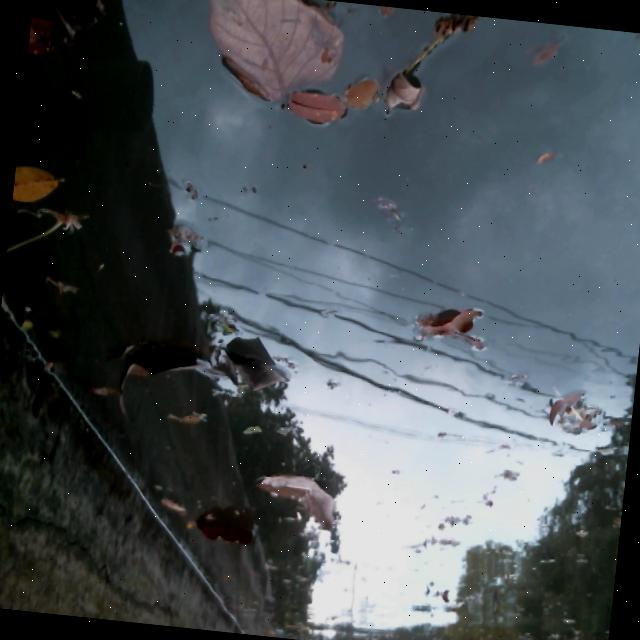Big-leaf: (106, 315, 295, 432), (194, 0, 334, 95), (243, 447, 355, 545), (184, 502, 261, 556)
Small-leaf: (401, 283, 503, 372), (540, 378, 601, 442), (11, 138, 63, 203), (285, 79, 342, 126), (341, 47, 378, 113), (386, 69, 433, 119), (510, 30, 564, 72), (152, 218, 196, 256), (153, 496, 188, 523), (13, 314, 33, 341)
